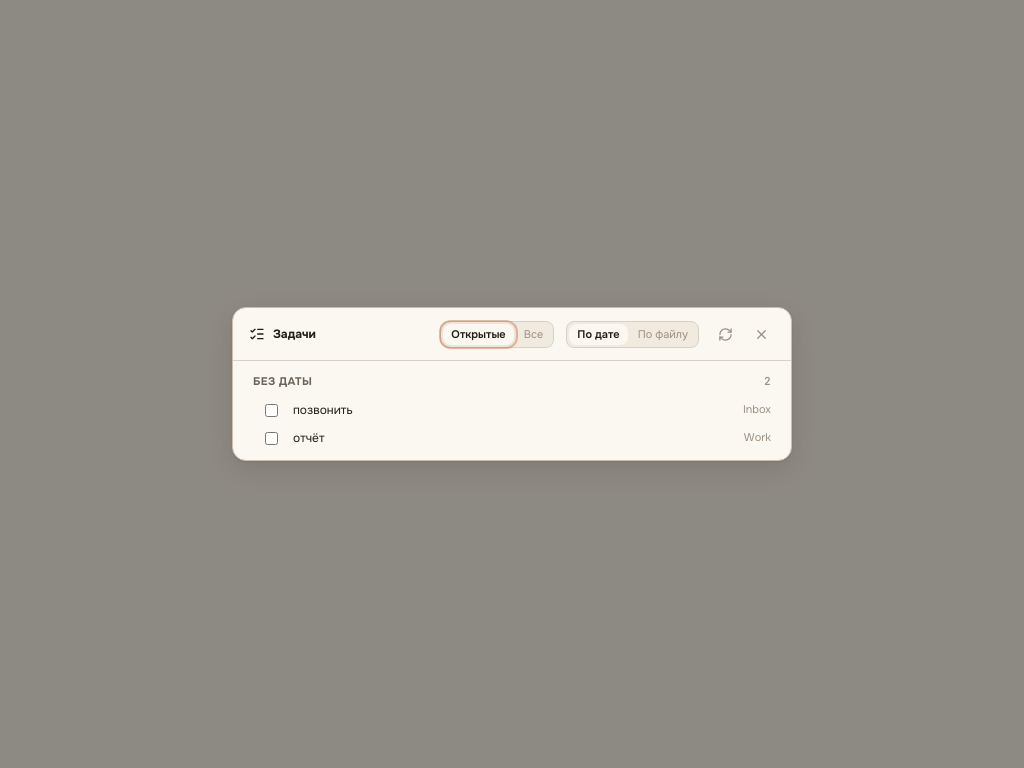
Test: TasksPanel (TASK-1) › фильтр «Все» показывает выполненные
Expected: the button "позвонить" is shown, [293, 401, 731, 419]
Click the button "Все".
click(534, 334)  # box [516, 324, 551, 345]
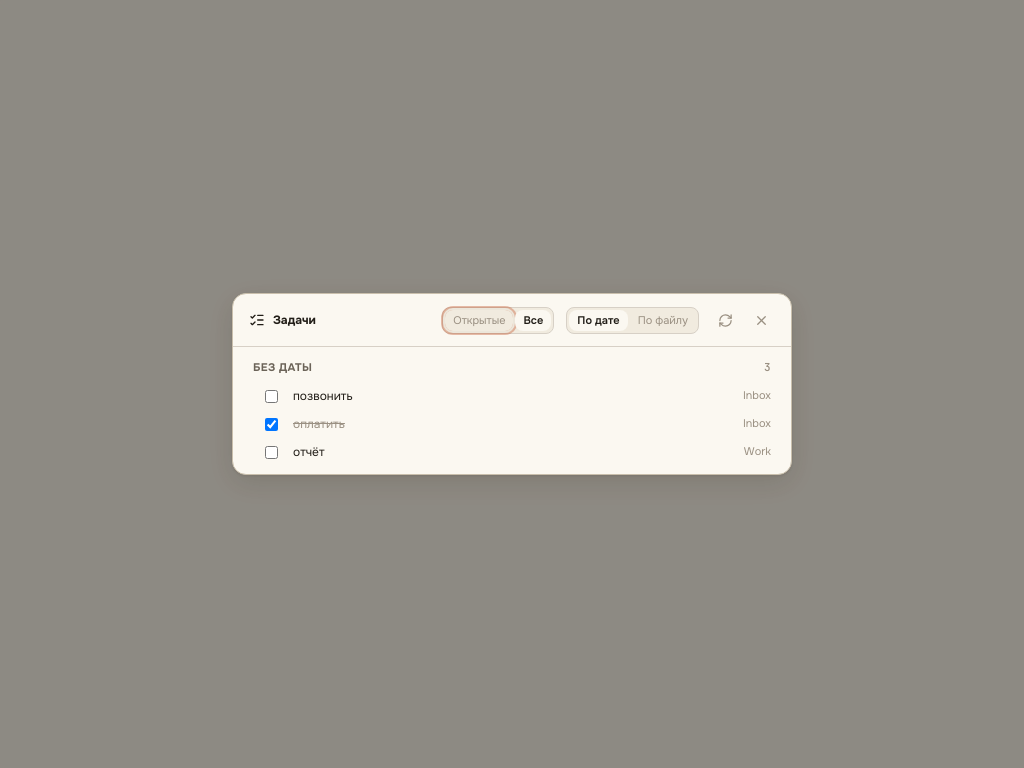
Result: the button "оплатить" is shown at [293, 415, 731, 433]
